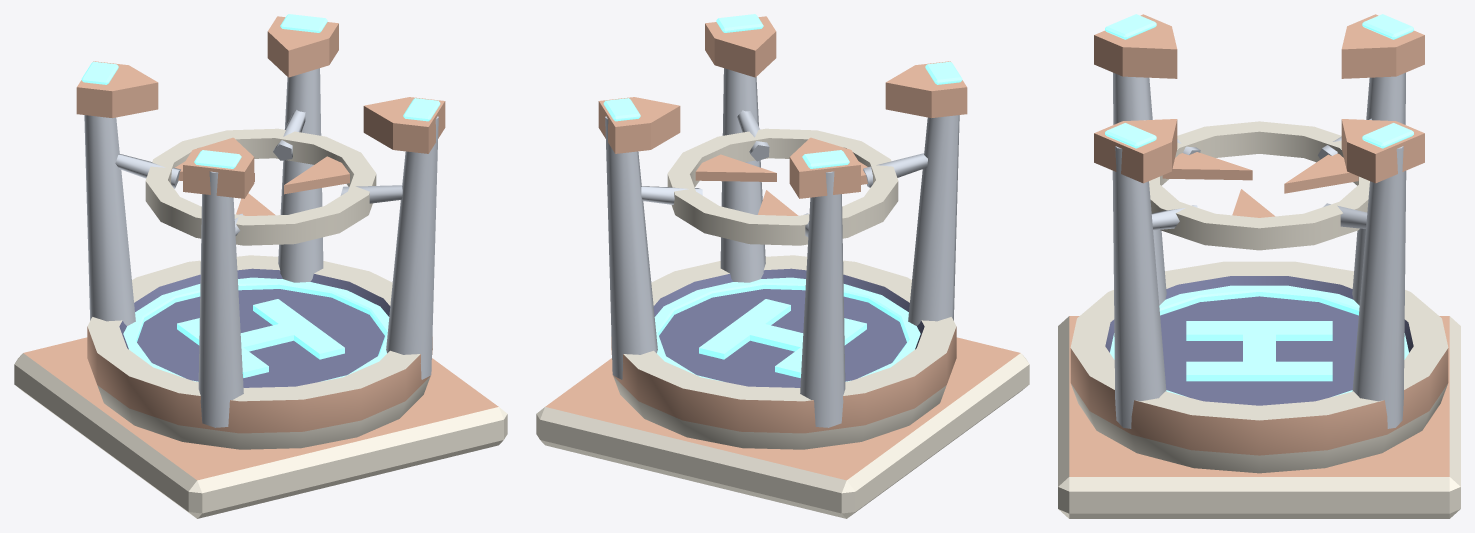
Rendered from R4X_FlyingDroneDeployer_LOD1.fbx.
The picture shows the model from 3 angles, left to right: view 1: azimuth 30°, elevation 25°; view 2: azimuth 150°, elevation 25°; view 3: azimuth 270°, elevation 25°; orthographic projection. The views are drawn at different scales.
Parts seen in each view (by area): view 1: R4X_FlyingDroneDeployer_LOD1; view 2: R4X_FlyingDroneDeployer_LOD1; view 3: R4X_FlyingDroneDeployer_LOD1.
Part boxes in pixels (left/top/right/bottom): R4X_FlyingDroneDeployer_LOD1: left=14, top=14, right=507, bottom=518; R4X_FlyingDroneDeployer_LOD1: left=536, top=14, right=1029, bottom=518; R4X_FlyingDroneDeployer_LOD1: left=1058, top=14, right=1460, bottom=518.
Size of the model in its own units: 0.52 by 0.513 by 0.52.
